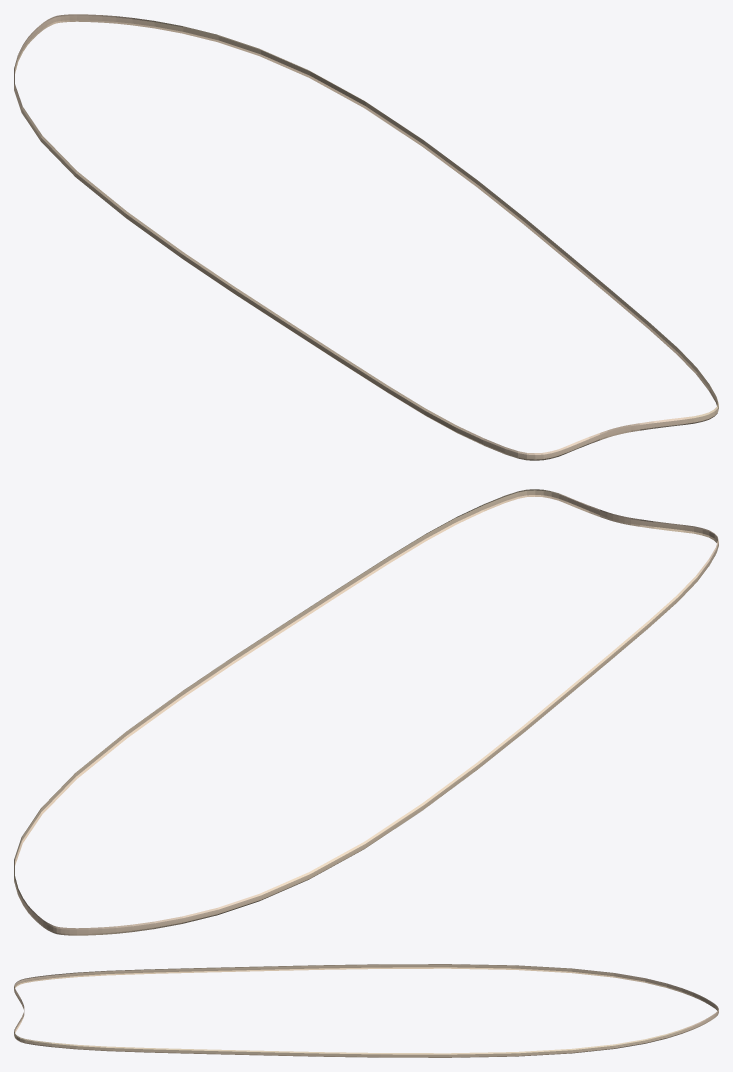
The model's file is surfboard01-side.glb.
The picture shows the model from 3 angles, top to bottom: view 1: azimuth 30°, elevation 25°; view 2: azimuth 150°, elevation 25°; view 3: azimuth 270°, elevation 25°; orthographic projection. The views are drawn at different scales.
Visible parts, largest first — view 1: surfboard01-side; view 2: surfboard01-side; view 3: surfboard01-side.
Part boxes in pixels (x1=…): surfboard01-side: x1=14, y1=14, x2=718, y2=460; surfboard01-side: x1=14, y1=489, x2=718, y2=935; surfboard01-side: x1=14, y1=964, x2=718, y2=1057.
Size of the model in its own units: 0.2862 by 0.00694 by 0.9472.
Materials: 1 (1 with a texture image).
